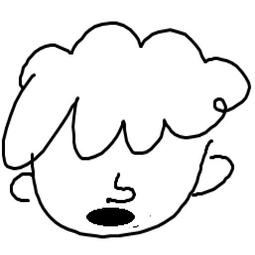ear: (186, 151, 244, 200), (7, 168, 53, 212)
nose: (94, 167, 142, 205)
open_mouth: (81, 206, 140, 226)
